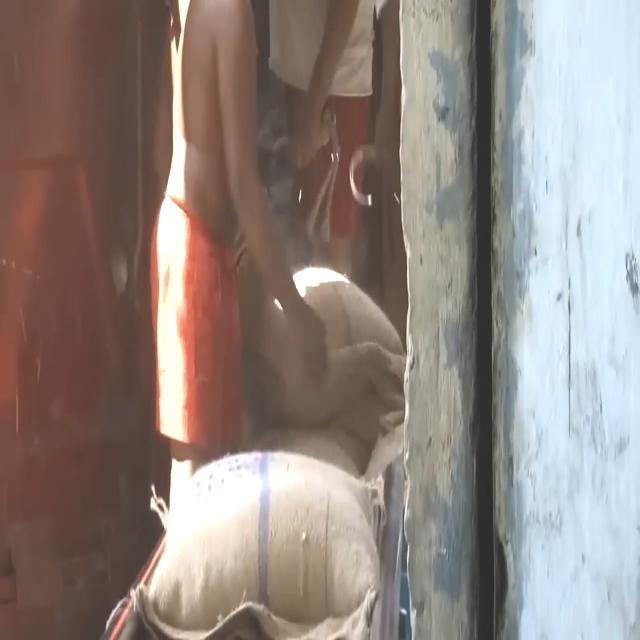gunny_bag: (142, 447, 383, 640), (257, 228, 402, 433)
